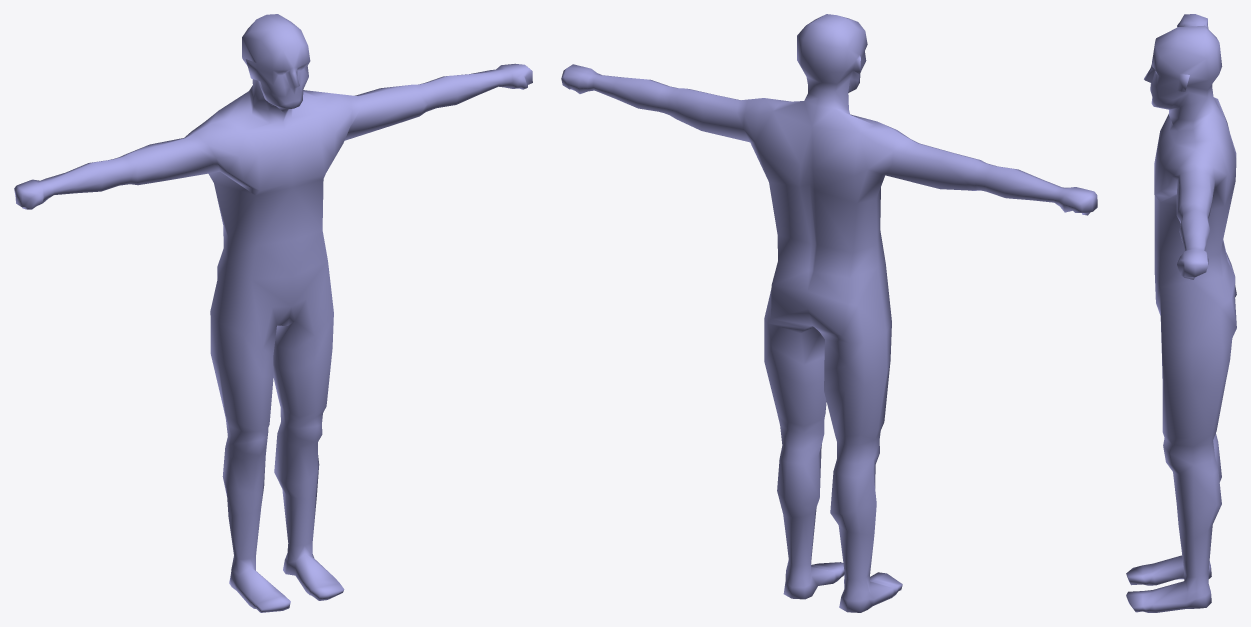
Rendered from hp_straight_left_A.fbx.
The picture shows the model from 3 angles, left to right: view 1: azimuth 30°, elevation 25°; view 2: azimuth 150°, elevation 25°; view 3: azimuth 270°, elevation 25°; orthographic projection. The views are drawn at different scales.
Visible parts, largest first — view 1: BlueGuy; view 2: BlueGuy; view 3: BlueGuy.
Boxes of the visible parts, <box> form: BlueGuy: <box>14,14,532,612</box>; BlueGuy: <box>561,14,1097,612</box>; BlueGuy: <box>1126,14,1236,612</box>.
Size of the model in its own units: 1.71 by 1.8 by 0.3215.
